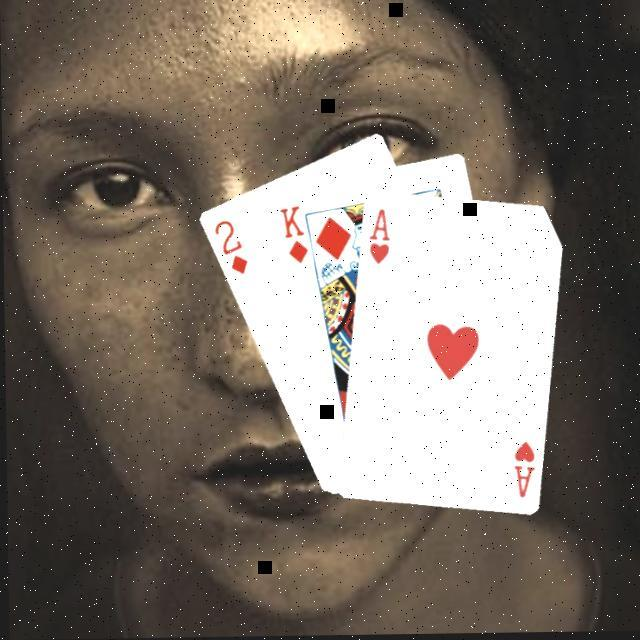2D: (209, 216, 249, 278)
AH: (506, 438, 536, 501), (363, 205, 392, 267)
KD: (274, 202, 310, 267)
